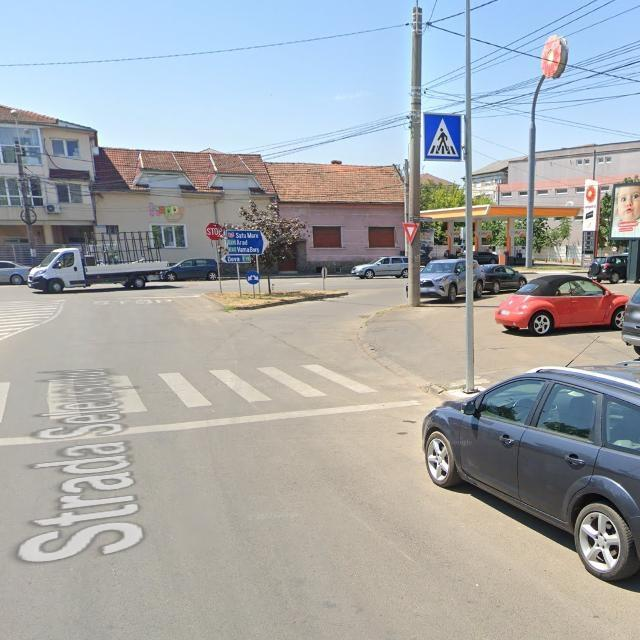info_crosswalk: (422, 112, 464, 163)
prio_give_way: (402, 222, 420, 245)
prio_stop: (206, 222, 224, 240)
